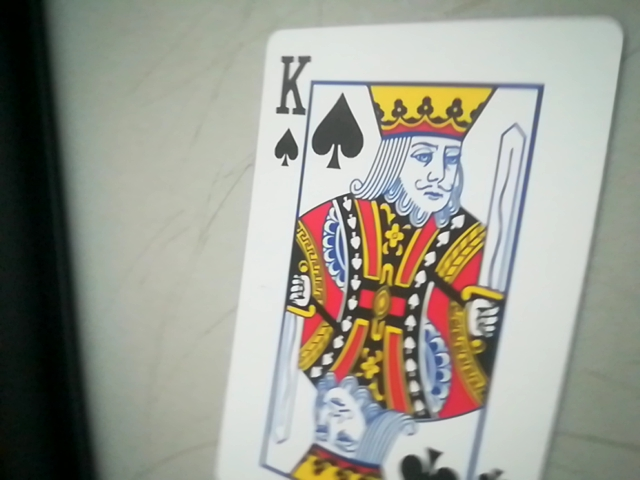ht k: (259, 46, 322, 177)
